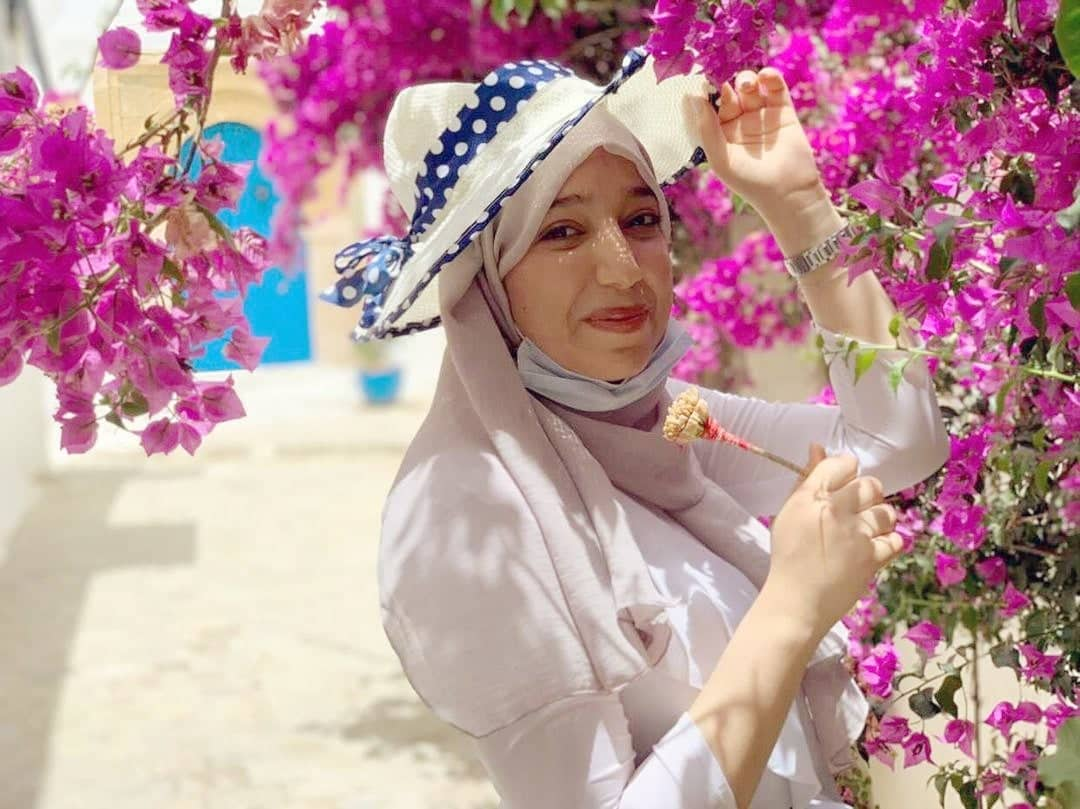mask_weared_incorrect: (510, 190, 698, 409)
